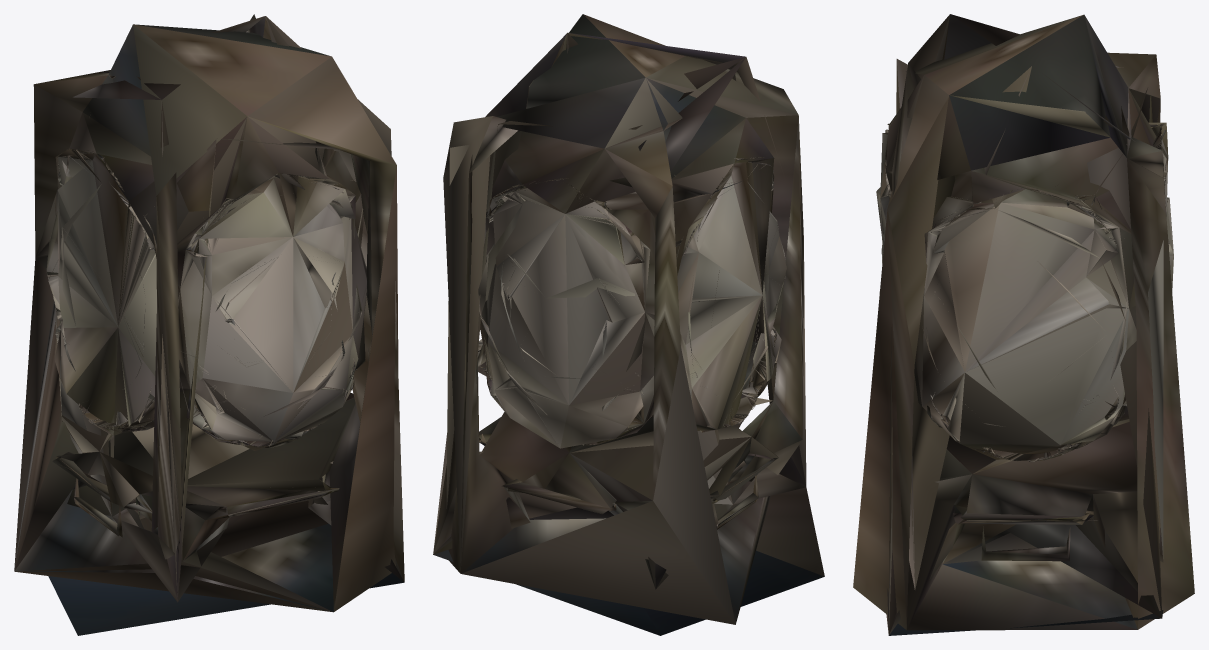
Rendered from prop_lamp_relay_01.glb.
The picture shows the model from 3 angles, left to right: view 1: azimuth 30°, elevation 25°; view 2: azimuth 150°, elevation 25°; view 3: azimuth 270°, elevation 25°; orthographic projection. The views are drawn at different scales.
Visible parts, largest first — view 1: geometry_0; view 2: geometry_0; view 3: geometry_0.
Part boxes in pixels (<box>): geometry_0: <box>14,14,404,635</box>; geometry_0: <box>433,14,824,635</box>; geometry_0: <box>853,14,1194,635</box>.
Bounding box in the file's own units: 0.5395 × 0.9162 × 0.5243.
Materials: 1 (1 with a texture image).
